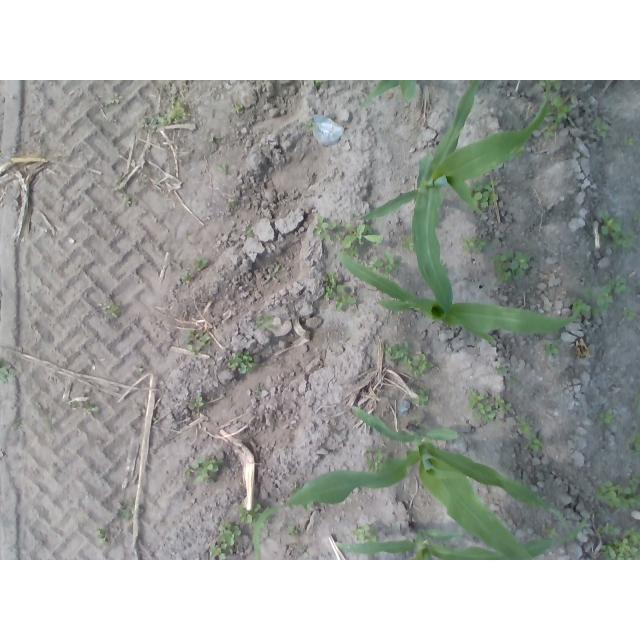Maize: (254, 405, 581, 560), (361, 80, 501, 348), (360, 92, 548, 220), (335, 248, 577, 345), (334, 517, 588, 560), (359, 80, 425, 116)
Weeds: (572, 278, 627, 318), (593, 476, 640, 511), (342, 223, 385, 260), (466, 388, 510, 423), (540, 95, 574, 138), (321, 272, 357, 312), (492, 249, 533, 284), (599, 213, 640, 248), (600, 528, 640, 561), (208, 522, 240, 560), (184, 456, 225, 485), (466, 179, 500, 213), (312, 216, 347, 243), (367, 252, 402, 277), (235, 503, 269, 528), (227, 350, 257, 375), (383, 340, 410, 367), (165, 97, 190, 123), (184, 330, 210, 355), (410, 353, 434, 378), (290, 487, 314, 511), (352, 522, 379, 542), (139, 114, 170, 131), (463, 235, 490, 253), (365, 448, 384, 472), (524, 432, 543, 452), (101, 300, 123, 317), (412, 387, 431, 406), (630, 425, 640, 457), (95, 525, 109, 547), (515, 416, 533, 433), (256, 314, 275, 330), (117, 499, 132, 519), (598, 522, 621, 535), (595, 118, 609, 139), (0, 362, 12, 386), (543, 341, 561, 356), (542, 525, 561, 539), (597, 409, 615, 423), (538, 80, 563, 90), (85, 399, 102, 413), (401, 236, 415, 253), (187, 397, 205, 410), (195, 256, 210, 270), (301, 120, 316, 133), (287, 525, 302, 536), (514, 146, 524, 162), (216, 162, 229, 174), (104, 98, 121, 107), (495, 365, 510, 375), (623, 309, 637, 319), (122, 194, 133, 206), (634, 389, 640, 411), (234, 103, 245, 114), (244, 226, 254, 238), (624, 138, 635, 147), (410, 418, 422, 426), (182, 274, 191, 283), (71, 400, 79, 409), (313, 80, 323, 85)
